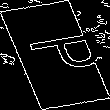P_E: (9, 31, 101, 79)
